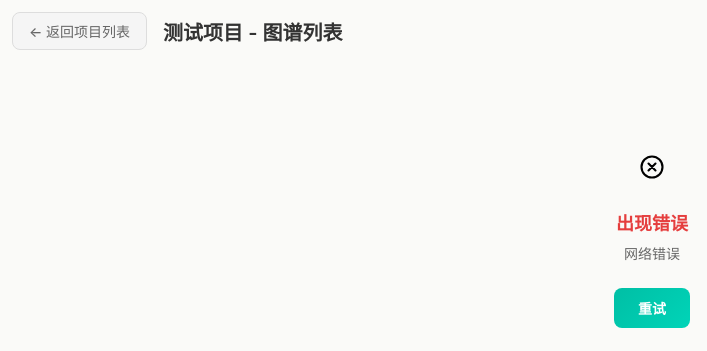
Test: GraphList Integration Tests › 错误处理 › 应该提供重试功能
The image size is (707, 351).
Check: the text "网络错误" is shown, box [624,243,680,264]
Click the button "重试": {"x": 652, "y": 308} [614,288,690,328]
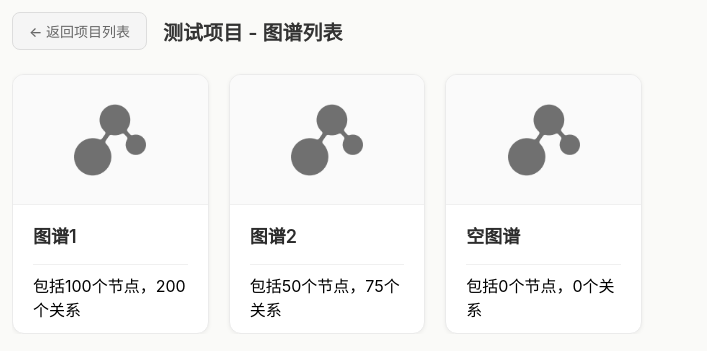
Check: the heading "图谱1" is shown, box [33,226,77,247]
